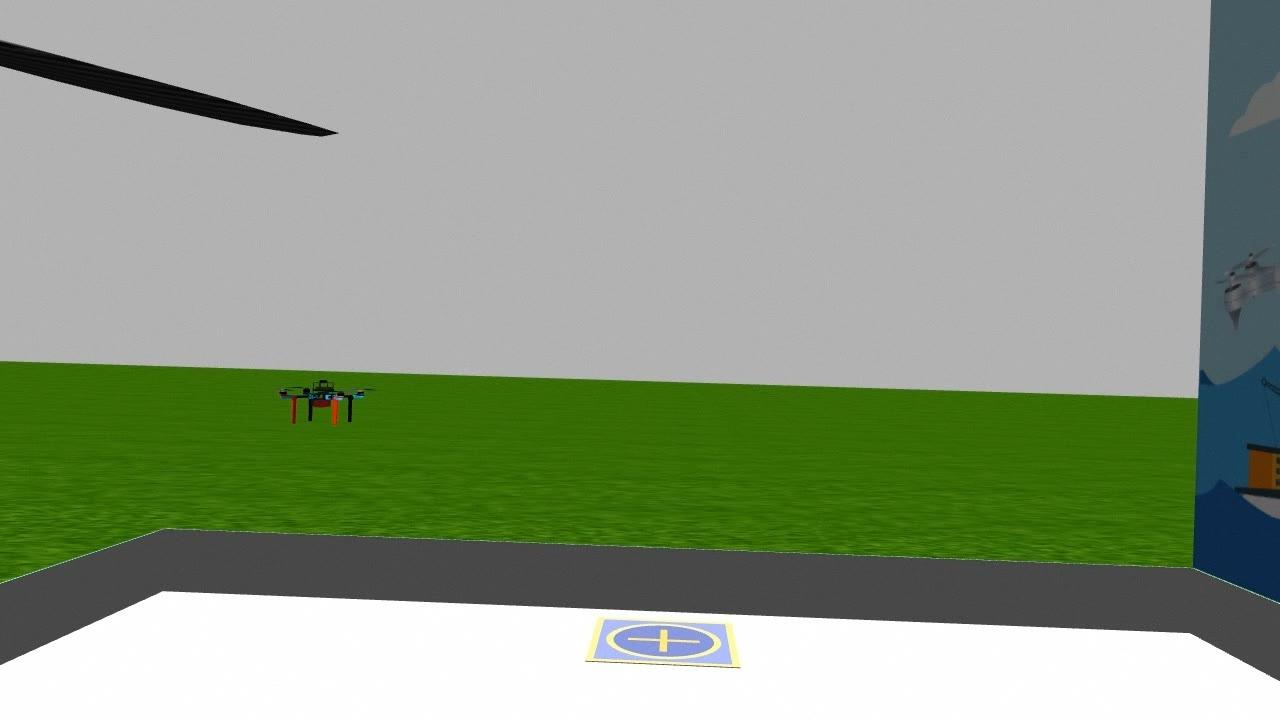UAV: (273, 369, 369, 450)
